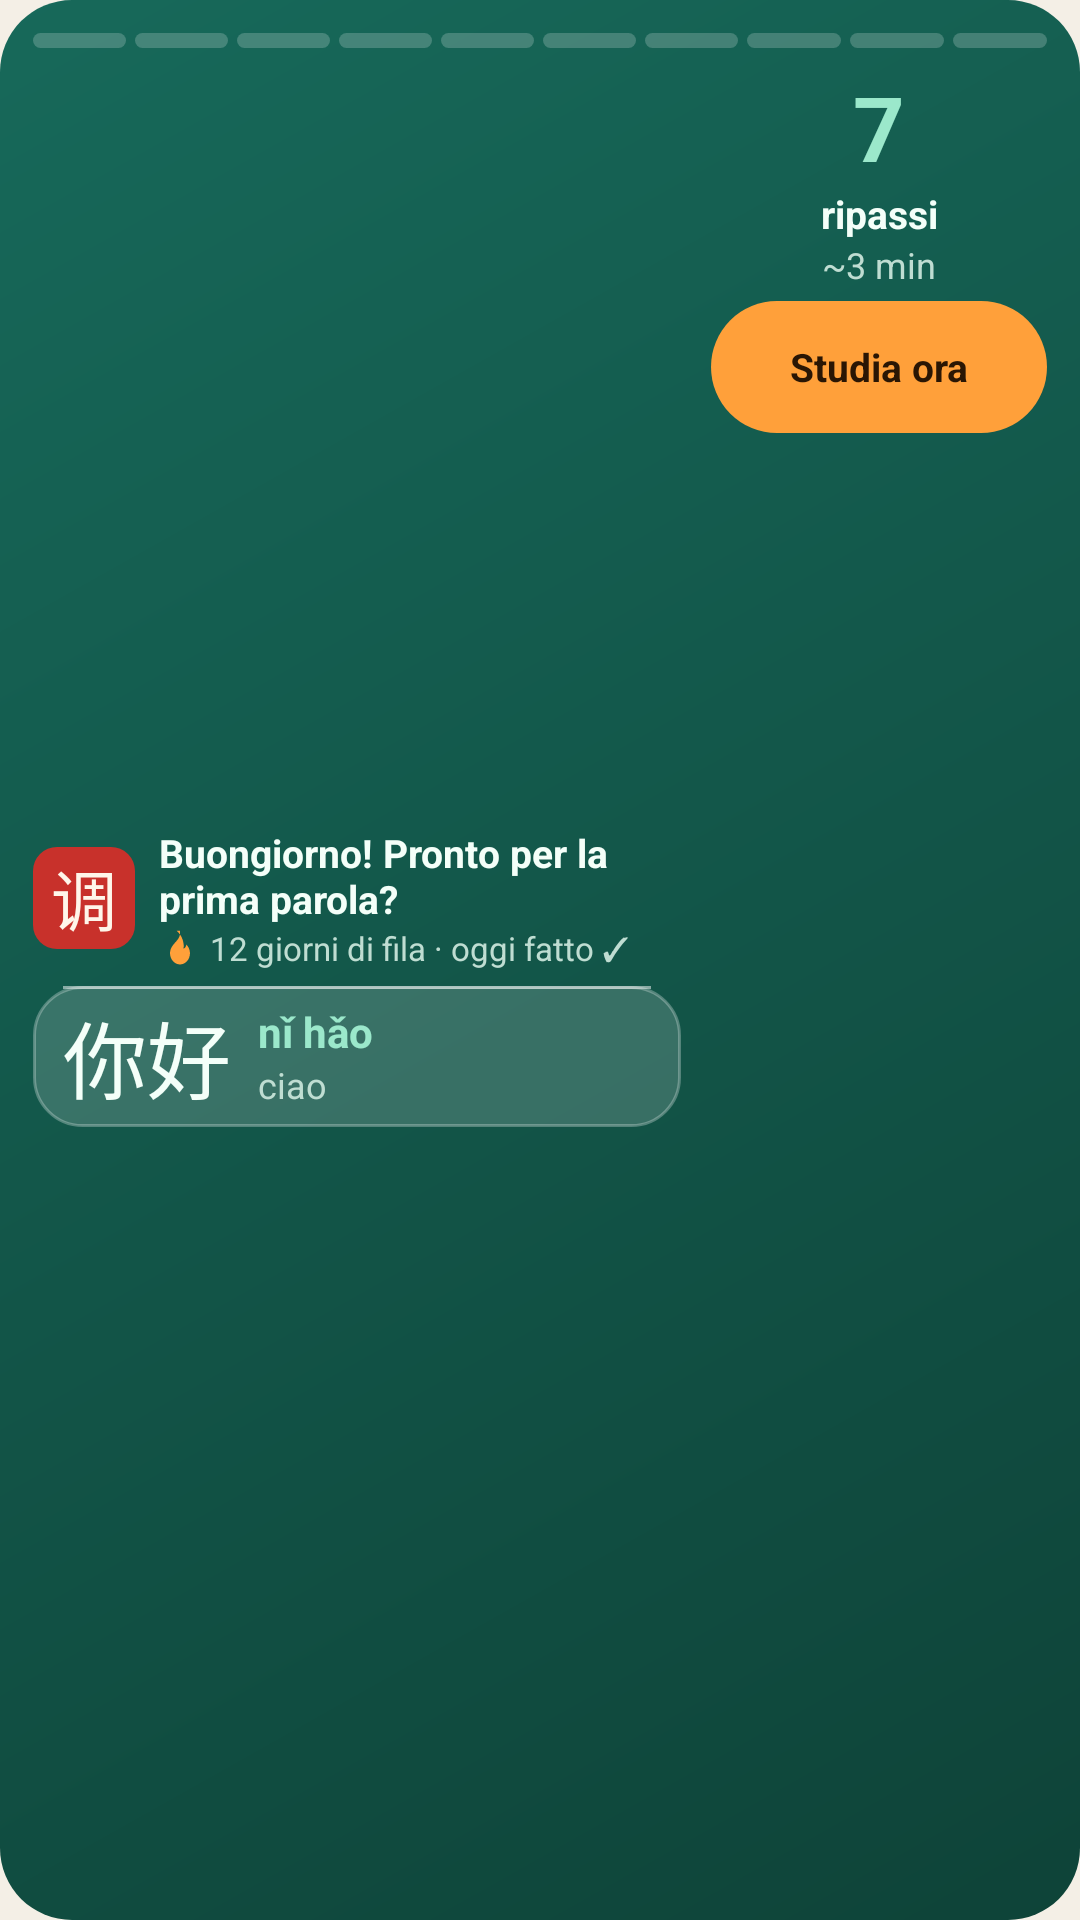

Where icons sit on this 1080px×1920px app screen, as [x1,y1,x2,y2]:
flame: [170,930,190,965]
